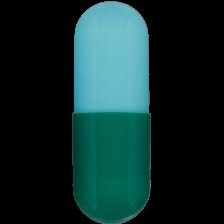68084-053: (0, 0, 224, 224)
